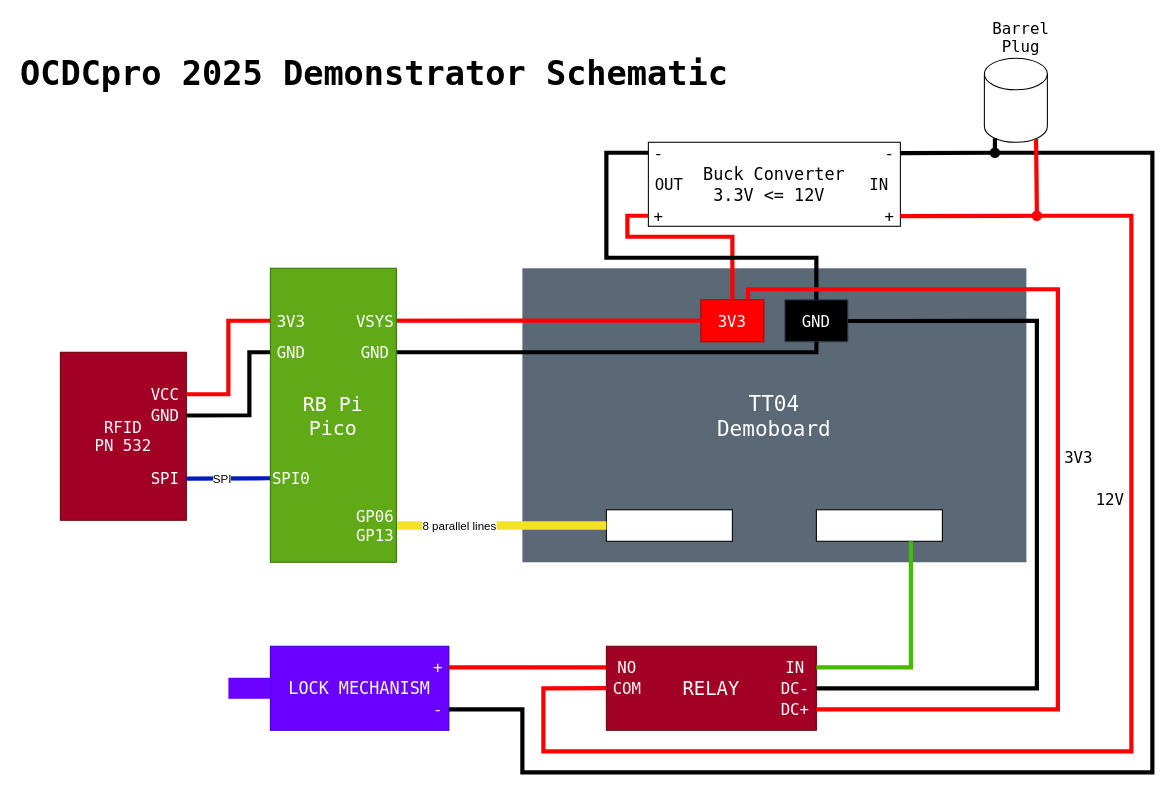
This 1173x793 diagram has some shape labels left out. Each missing label, with the centre of its shape:
"12V INPUT" belongs at pixel 1015 99.
"INPUTS" belongs at pixel 668 525.
"OUTPUTS" belongs at pixel 878 525.
